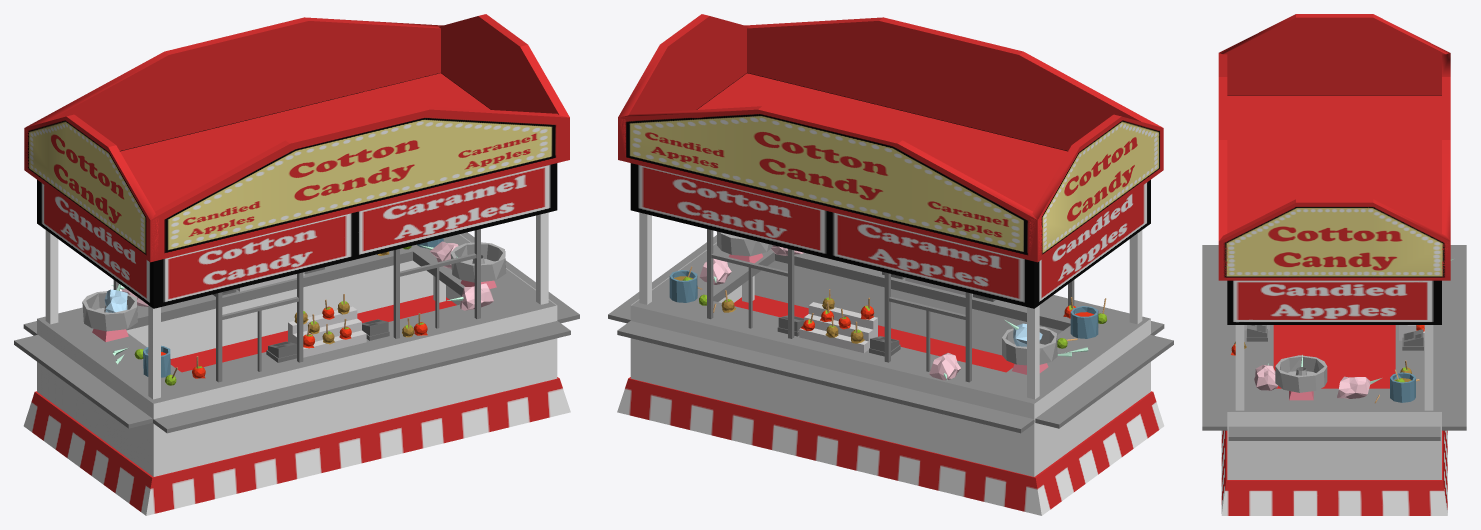
The model's file is cotton-candy-stall.glb.
3 renders of one model, left to right at view 1: azimuth 30°, elevation 25°; view 2: azimuth 150°, elevation 25°; view 3: azimuth 270°, elevation 25°, orthographic. The views are drawn at different scales.
Parts seen in each view (by area): view 1: Cube.006, Cube, Cube.001, Cube.019, Cylinder.001, Cube.028, Cone.004, Cylinder; view 2: Cube.006, Cube, Cube.001, Cube.019, Cylinder.001, Cube.028, Cone.004, Cylinder, Cylinder.002, Cylinder.003; view 3: Cube.006, Cube, Cube.001, Cube.019, Cylinder.001, Cone.004, Cylinder.003, Cube.002, Cube.003.
Boxes of the visible parts, box(x1,y1,x2,y2) form: Cube.006: box(24, 14, 569, 262); Cube: box(37, 73, 557, 476); Cube.001: box(23, 295, 570, 515); Cube.019: box(14, 229, 579, 433); Cylinder.001: box(82, 242, 506, 342); Cube.028: box(236, 272, 366, 357); Cone.004: box(104, 241, 493, 364); Cylinder: box(192, 251, 427, 378); Cube.006: box(618, 14, 1163, 262); Cube: box(630, 73, 1150, 476); Cube.001: box(617, 295, 1164, 515); Cube.019: box(608, 229, 1173, 433); Cylinder.001: box(717, 231, 1057, 374); Cube.028: box(799, 277, 972, 352); Cone.004: box(699, 245, 1088, 380); Cylinder: box(721, 289, 1075, 343); Cylinder.002: box(1070, 306, 1098, 338); Cylinder.003: box(669, 270, 697, 302); Cube.006: box(1218, 14, 1450, 280); Cube: box(1227, 95, 1441, 479); Cube.001: box(1221, 325, 1447, 515); Cube.019: box(1202, 245, 1466, 440); Cylinder.001: box(1275, 355, 1327, 400); Cone.004: box(1254, 259, 1453, 398); Cylinder.003: box(1390, 372, 1415, 402); Cube.002: box(1402, 329, 1423, 350); Cube.003: box(1246, 325, 1267, 341).
Size of the model in its own units: 0.5228 by 0.3751 by 0.288.
Materials: 12 (12 with a texture image).
